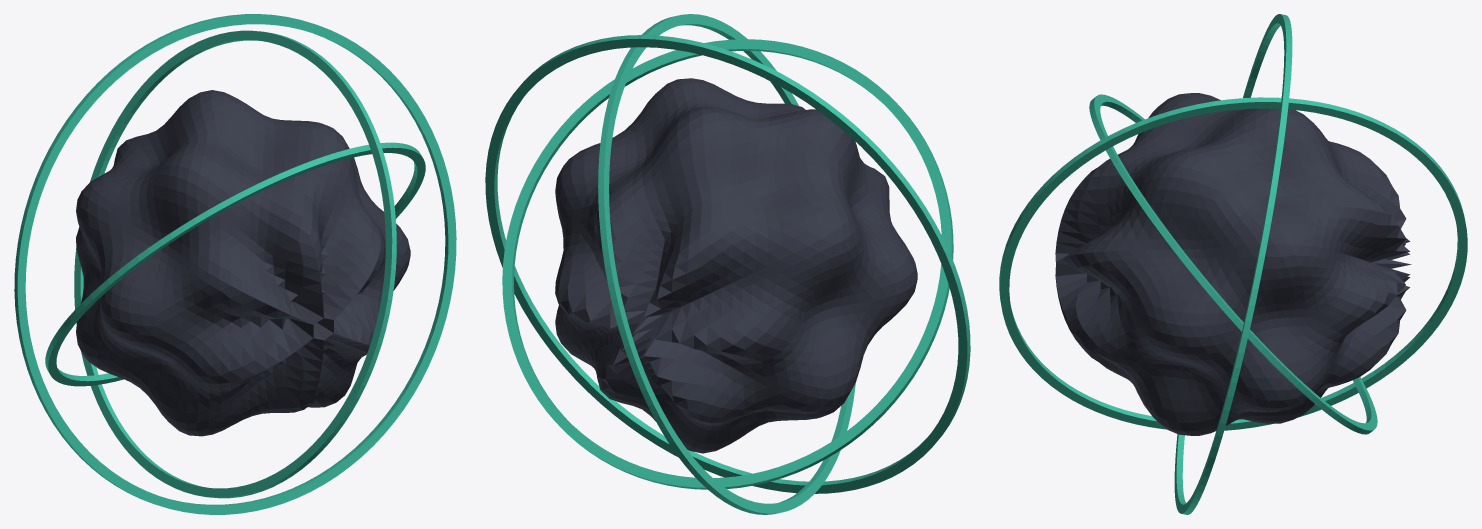
Rendered from gpu-artifact.glb.
The picture shows the model from 3 angles, left to right: view 1: azimuth 30°, elevation 25°; view 2: azimuth 150°, elevation 25°; view 3: azimuth 270°, elevation 25°; orthographic projection. The views are drawn at different scales.
Visible parts, largest first — view 1: shodan-surface-sentinel_obsidian_core, shodan-surface-sentinel_orbital_ring_2, shodan-surface-sentinel_orbital_ring_1, shodan-surface-sentinel_orbital_ring_0; view 2: shodan-surface-sentinel_obsidian_core, shodan-surface-sentinel_orbital_ring_2, shodan-surface-sentinel_orbital_ring_0, shodan-surface-sentinel_orbital_ring_1; view 3: shodan-surface-sentinel_obsidian_core, shodan-surface-sentinel_orbital_ring_1, shodan-surface-sentinel_orbital_ring_2, shodan-surface-sentinel_orbital_ring_0.
Boxes of the visible parts, x1,y1,x2,y2 form: shodan-surface-sentinel_obsidian_core: (76, 90, 410, 436); shodan-surface-sentinel_orbital_ring_2: (14, 14, 456, 514); shodan-surface-sentinel_orbital_ring_1: (74, 30, 396, 498); shodan-surface-sentinel_orbital_ring_0: (45, 142, 425, 386); shodan-surface-sentinel_obsidian_core: (555, 78, 917, 453); shodan-surface-sentinel_orbital_ring_2: (485, 35, 970, 493); shodan-surface-sentinel_orbital_ring_0: (502, 39, 953, 489); shodan-surface-sentinel_orbital_ring_1: (598, 14, 855, 514); shodan-surface-sentinel_obsidian_core: (1055, 93, 1411, 435); shodan-surface-sentinel_orbital_ring_1: (999, 97, 1467, 430); shodan-surface-sentinel_orbital_ring_2: (1174, 14, 1292, 514); shodan-surface-sentinel_orbital_ring_0: (1089, 94, 1377, 434).
Bounding box in the file's own units: 3.24 × 3.17 × 2.98.
